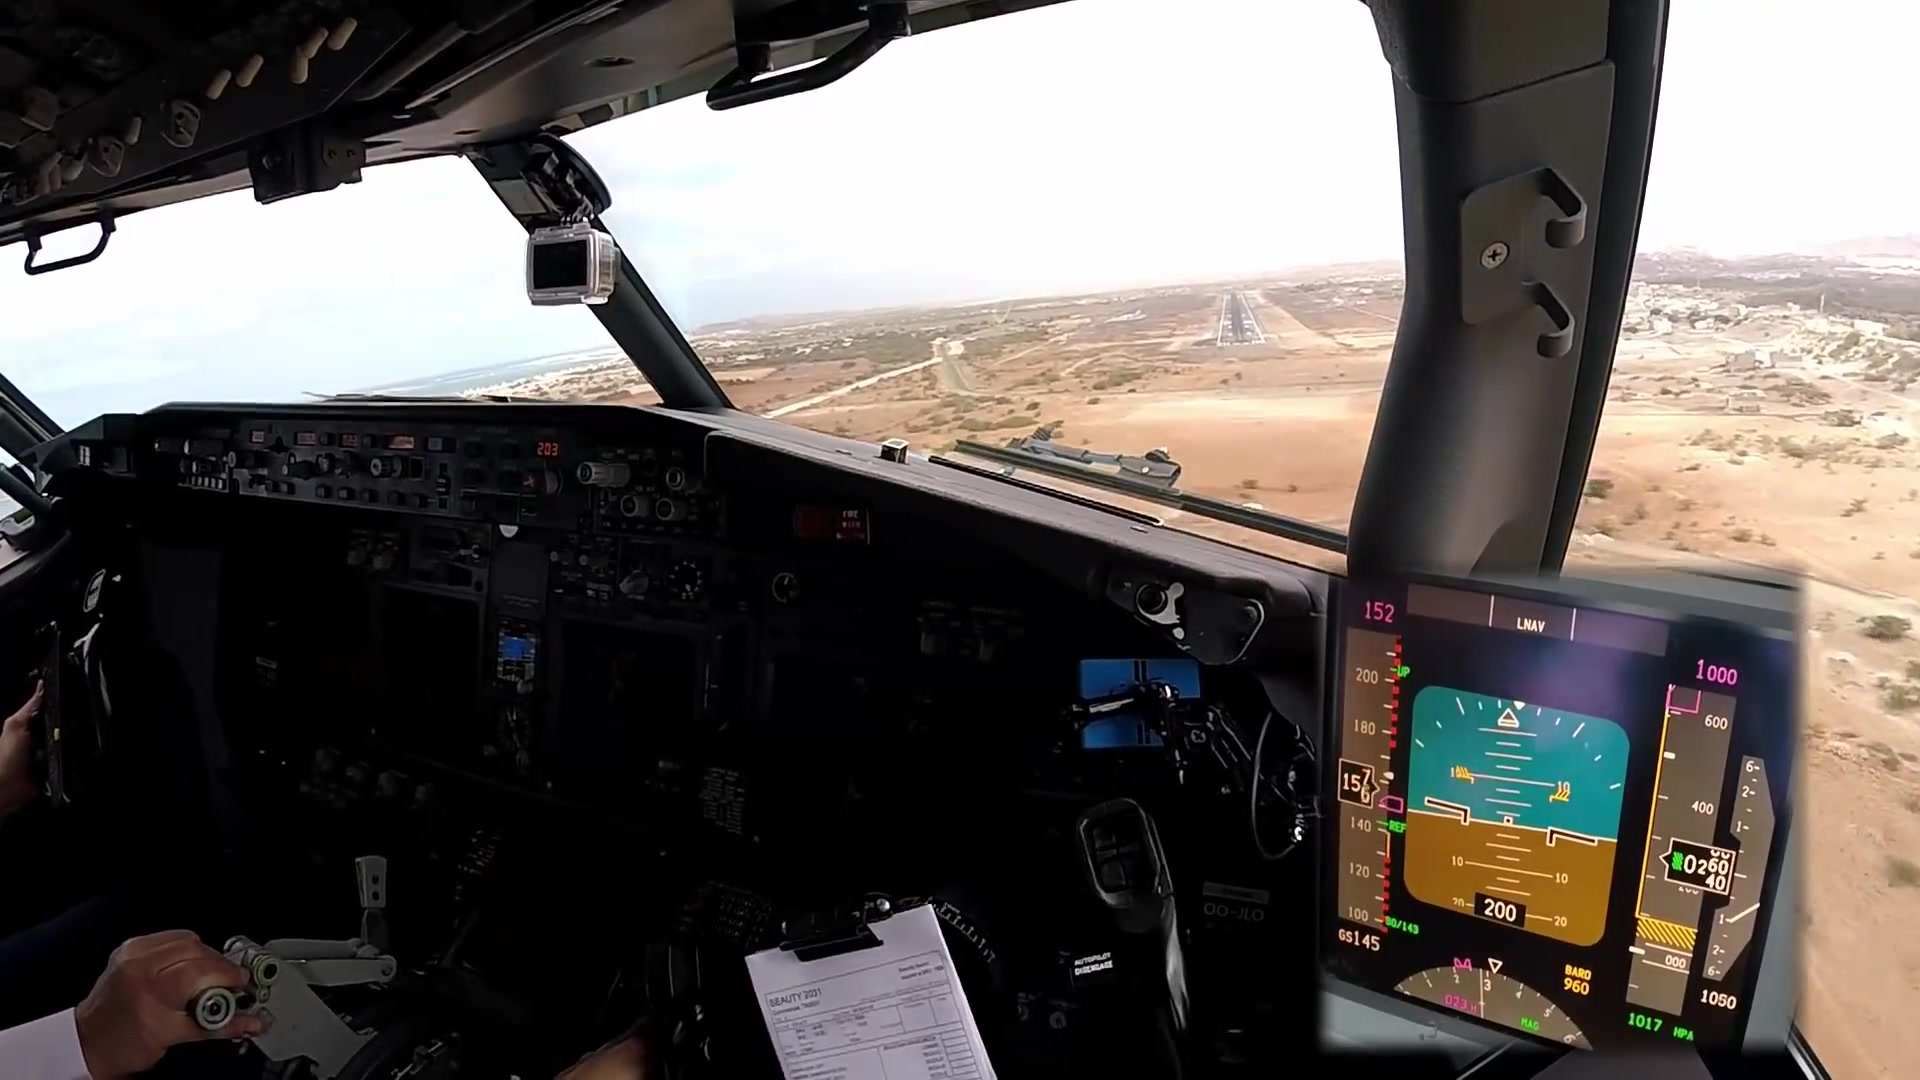entrance: (1218, 340, 1262, 345)
runway: (1213, 295, 1267, 345)
